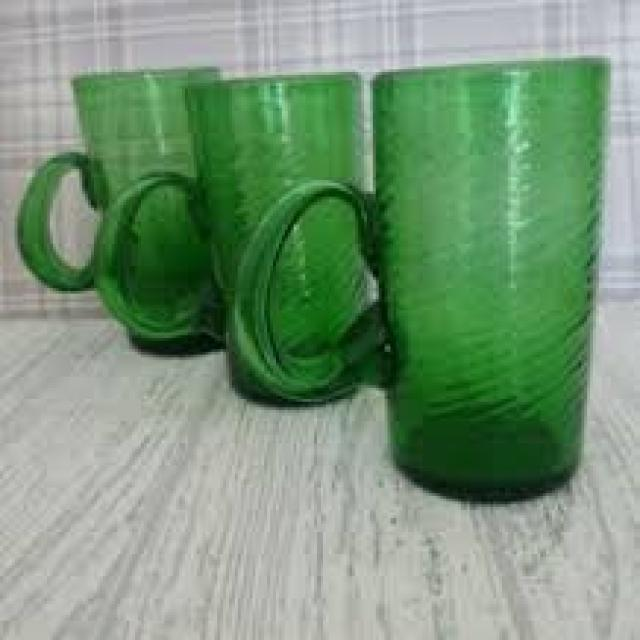glass: (229, 56, 608, 502), (88, 72, 364, 402), (12, 64, 220, 349)
